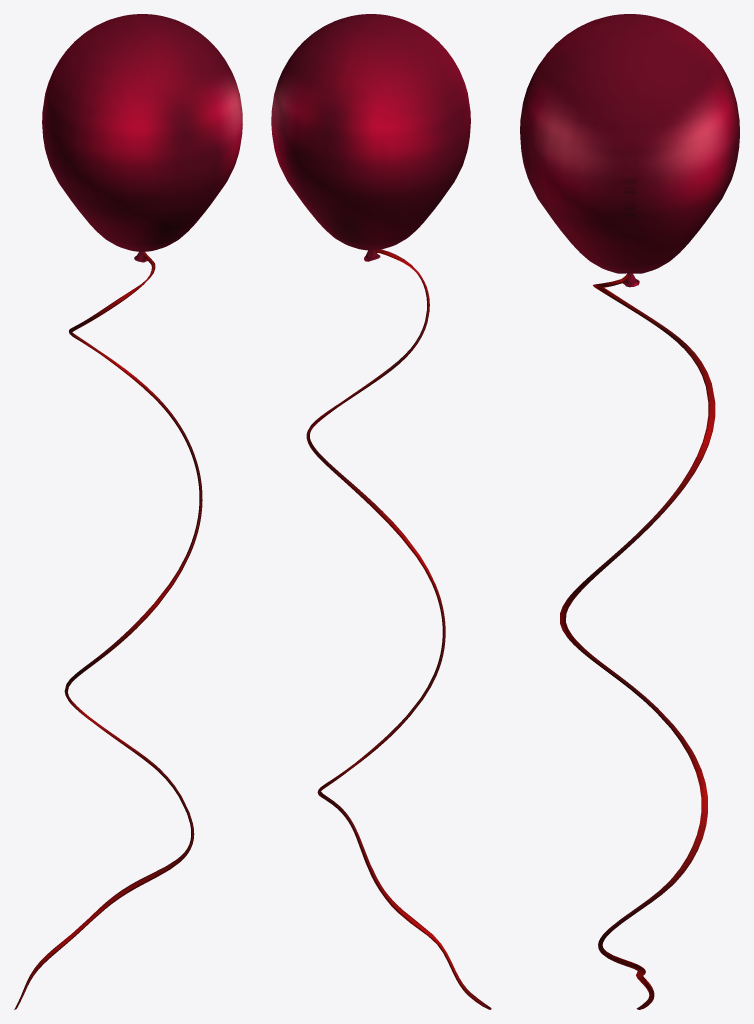
File: balloon.fbx
The picture shows the model from 3 angles, left to right: view 1: azimuth 30°, elevation 25°; view 2: azimuth 150°, elevation 25°; view 3: azimuth 270°, elevation 25°; orthographic projection. The views are drawn at different scales.
Visible parts, largest first — view 1: Sphere, Circle; view 2: Sphere, Circle; view 3: Sphere, Circle.
Boxes of the visible parts, bbox=[...] form: Sphere: bbox=[42, 14, 242, 262]; Circle: bbox=[14, 251, 202, 1009]; Sphere: bbox=[271, 14, 470, 261]; Circle: bbox=[306, 249, 491, 1009]; Sphere: bbox=[520, 14, 739, 287]; Circle: bbox=[560, 273, 715, 1009].
Bounding box in the file's own units: 29.1 × 126 × 23.91.
